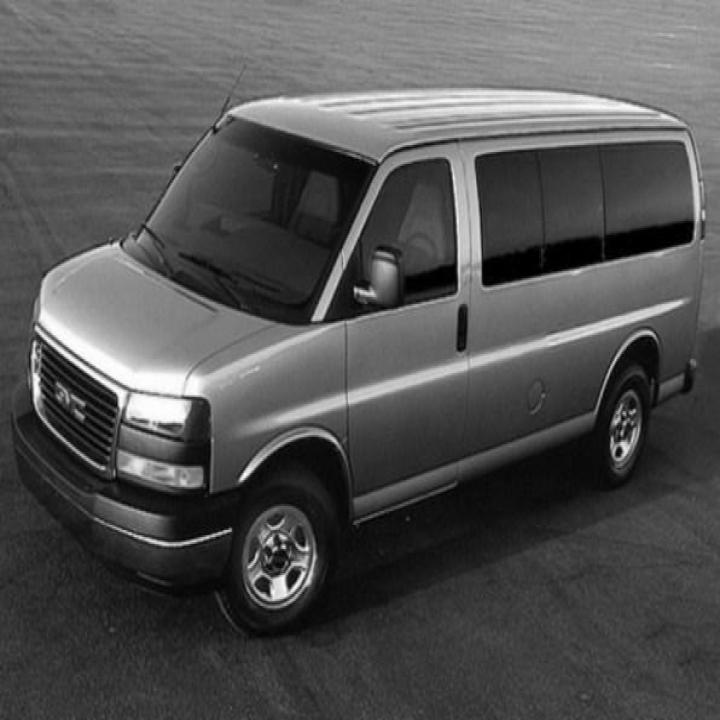car: (8, 66, 708, 636)
